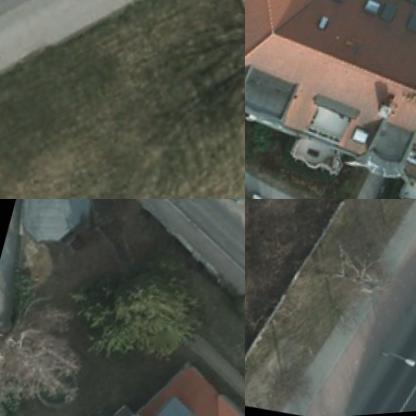car: (191, 199, 244, 216)
